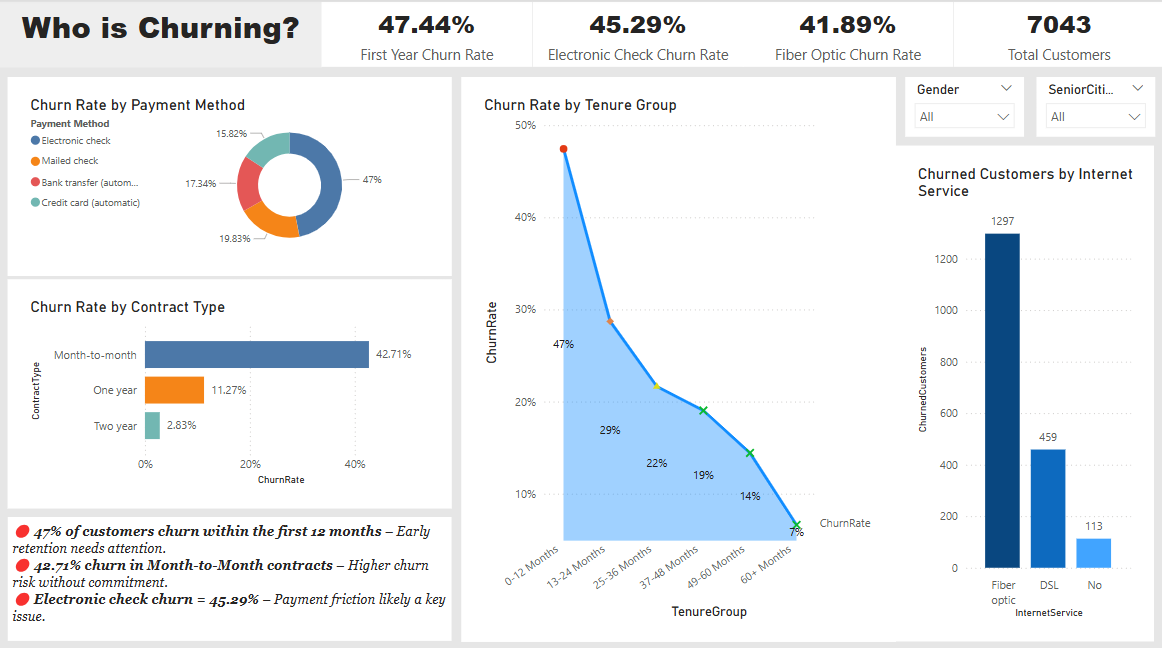

The page's visual inventory and layout, read from the dashboard file:
{"tool":"powerbi","page":{"name":"Who is Churning?","canvas":[1280,720],"ordinal":1},"visuals":[{"type":"card","fields":{"Values":["Customers.TotalCustomers"]},"box":[1048.6,5.7,231.4,71.4],"z":0},{"type":"textbox","box":[0,5,354.7,72],"z":1000},{"type":"card","fields":{"Values":["KPI.ChurnRate_FirstYear"]},"box":[354.3,5.7,231.4,71.4],"z":2000},{"type":"card","fields":{"Values":["KPI.ChurnRate_ElectronicCheck"]},"box":[585.7,5.7,231.4,71.4],"z":3000},{"type":"card","fields":{"Values":["KPI.ChurnRate_FiberOptic"]},"box":[817.1,5.7,231.4,71.4],"z":4000},{"type":"stackedAreaChart","title":"Churn Rate by Tenure Group","fields":{"Category":["Contracts.TenureGroup"],"Y":["KPI.ChurnRate"]},"box":[507.1,87.1,477.1,620],"z":5000},{"type":"clusteredColumnChart","title":"Churned Customers by Internet Service","fields":{"Category":["Services.InternetService"],"Y":["KPI.ChurnedCustomers"]},"box":[984.3,162.9,284.3,544.3],"z":6000},{"type":"donutChart","title":"Churn Rate by Payment Method","fields":{"Category":["Billings.PaymentMethod"],"Y":["KPI.ChurnRate"]},"box":[10,87.1,487.1,218.6],"z":7000},{"type":"barChart","title":"Churn Rate by Contract Type","fields":{"Category":["Contracts.ContractType"],"Y":["KPI.ChurnRate"]},"box":[10,310,487.1,251.4],"z":8000},{"type":"slicer","fields":{"Values":["Customers.SeniorCitizen"]},"box":[1138.6,87.1,130,65.7],"z":9000},{"type":"slicer","fields":{"Values":["Customers.Gender"]},"box":[994.3,87.1,130,65.7],"z":10000},{"type":"textbox","box":[10,571.4,487.1,135.7],"z":11000}]}

Visuals, with their boxes in screenshot pixels (x1, y1, x2, y2), scaled from the page's 1280x720 canvas onto the 1162x648 screenshot:
card - Customers.TotalCustomers: (952,5,1161,69)
textbox: (0,4,322,69)
card - KPI.ChurnRate_FirstYear: (322,5,532,69)
card - KPI.ChurnRate_ElectronicCheck: (532,5,742,69)
card - KPI.ChurnRate_FiberOptic: (742,5,952,69)
"Churn Rate by Tenure Group" stackedAreaChart: (460,78,893,636)
"Churned Customers by Internet Service" clusteredColumnChart: (894,147,1152,636)
"Churn Rate by Payment Method" donutChart: (9,78,451,275)
"Churn Rate by Contract Type" barChart: (9,279,451,505)
slicer - Customers.SeniorCitizen: (1034,78,1152,138)
slicer - Customers.Gender: (903,78,1021,138)
textbox: (9,514,451,636)
